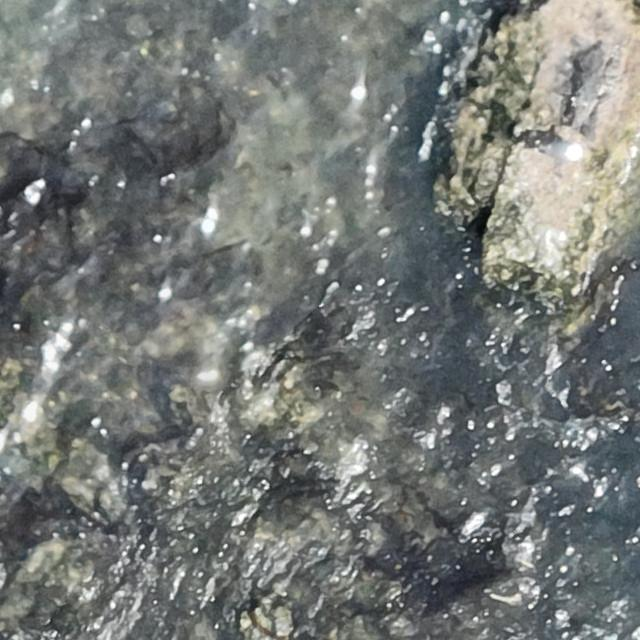umineko: (542, 140, 584, 163)
